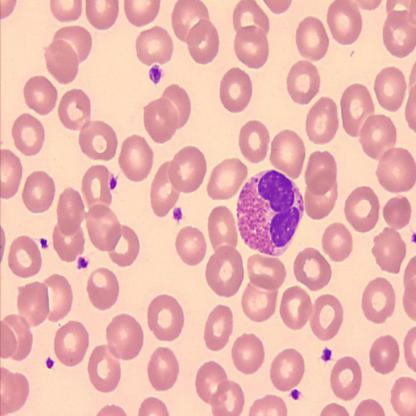Eosinophil: (234, 170, 305, 256)
